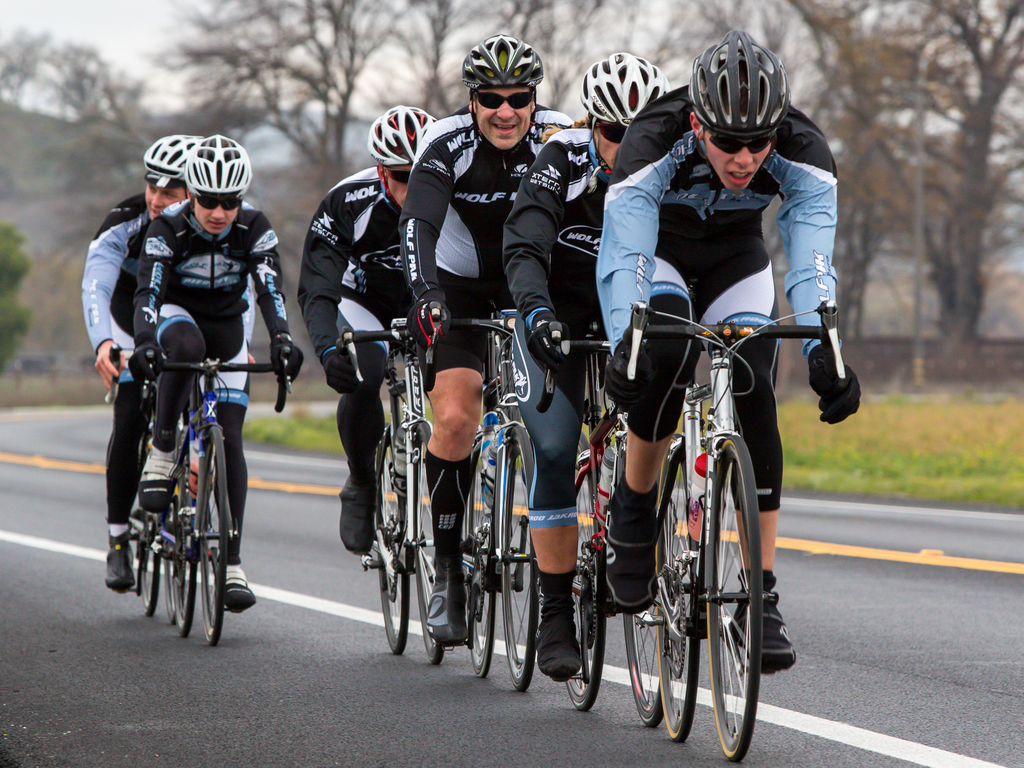Bike: (611, 290, 852, 758), (413, 295, 555, 693), (125, 342, 298, 642)
